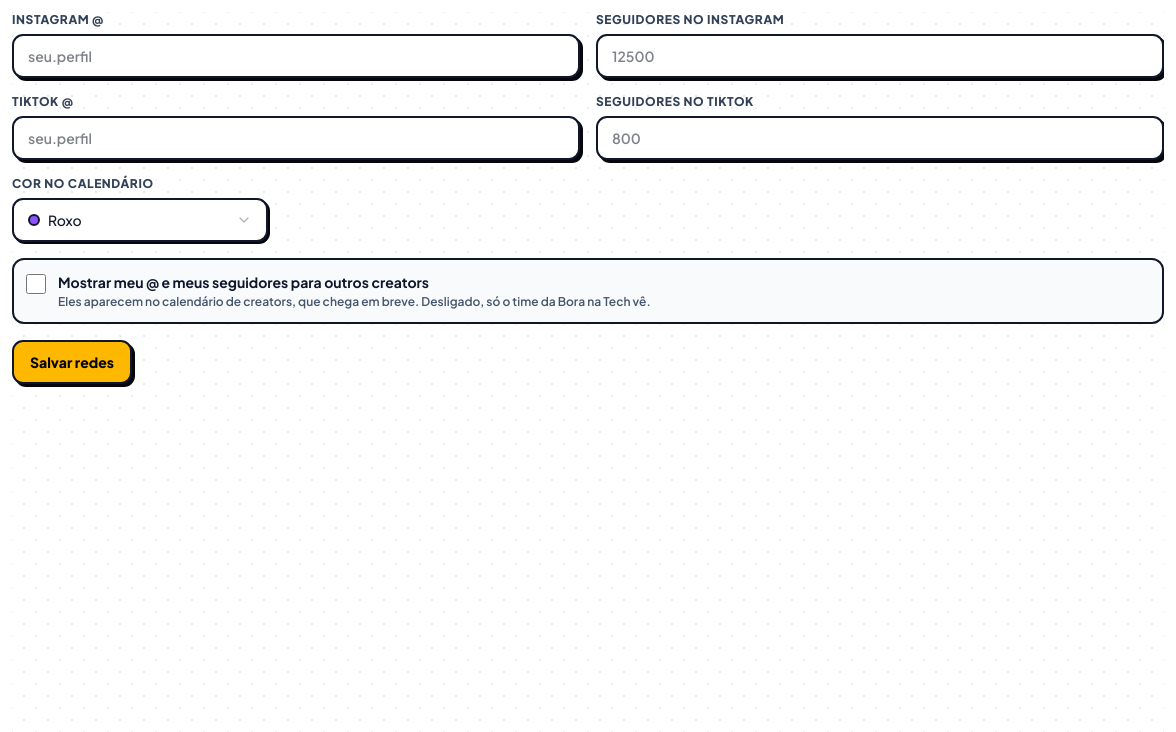
Test: CreatorRedesForm: gravacao › @ invalido: erro no campo e NADA e enviado
The width and height of the screenshot is (1176, 732).
Type "ana cria" into the field labelled "TikTok @".
click(296, 138); type("ana cria")  # box [12,116,580,160]
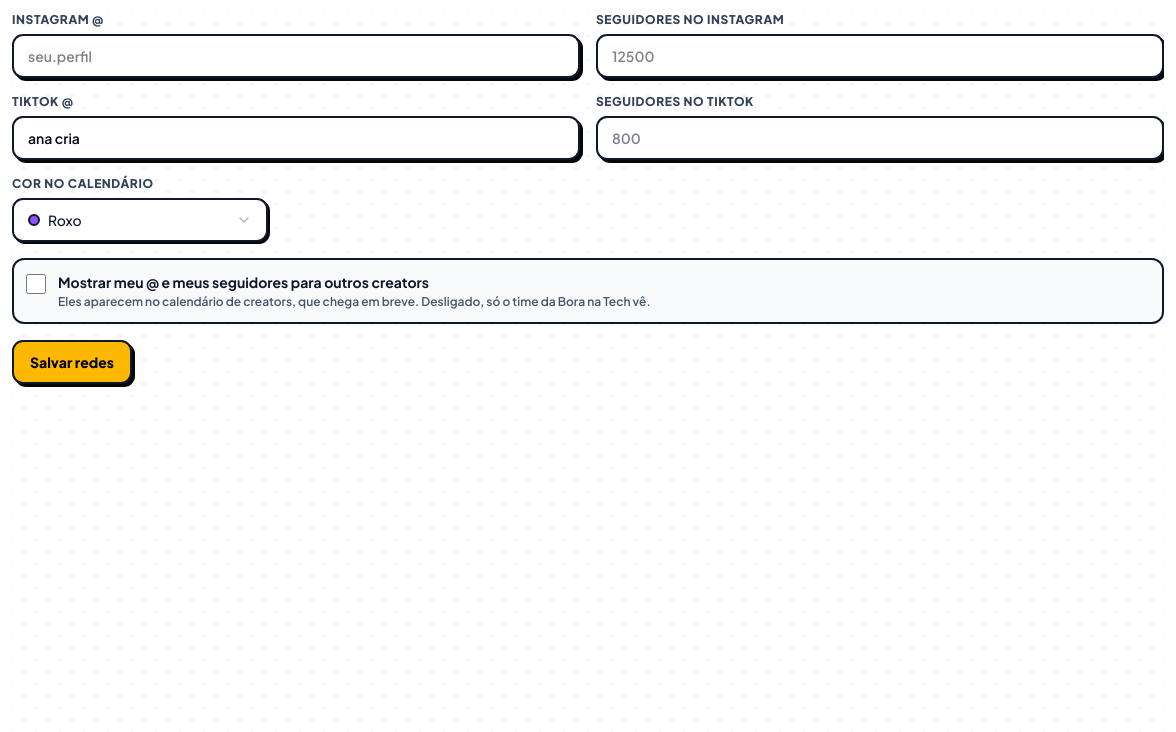
Click the button with test id "creator-perfil-salvar".
click(72, 362)  # box [12,340,132,384]
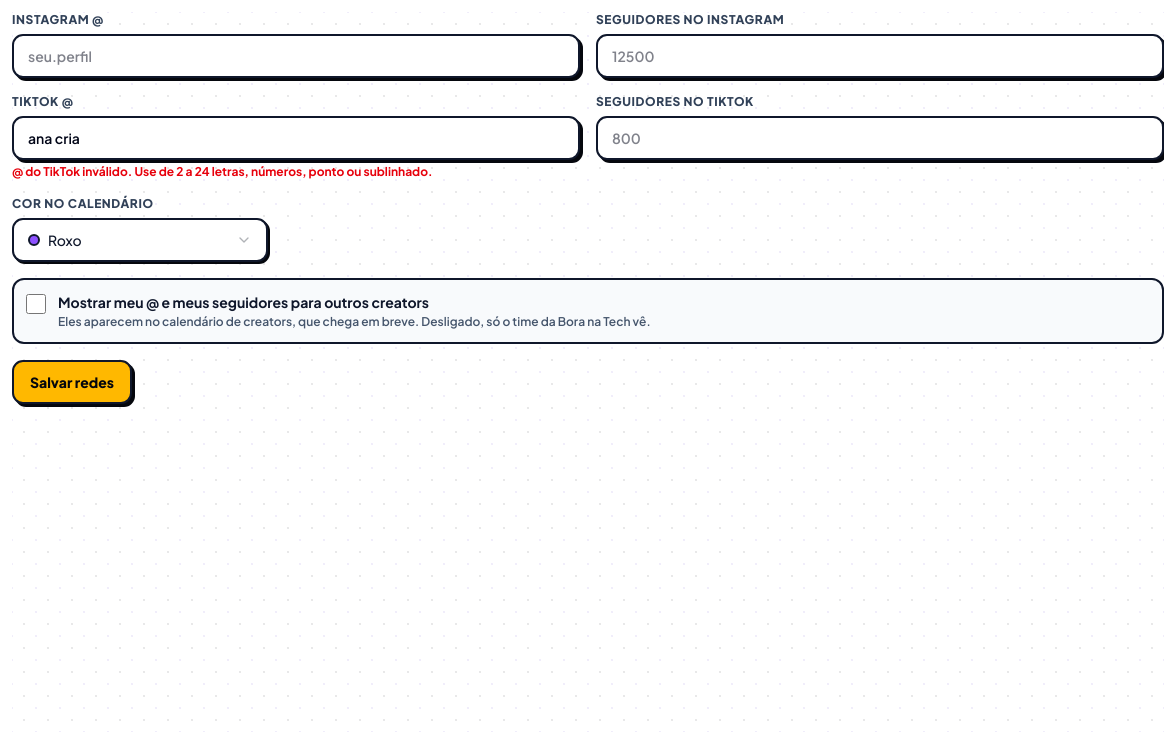
Now the text "@ do TikTok inválido. Use de 2 a 24 letras, números, ponto ou sublinhado." is shown, box [12,164,432,179]
